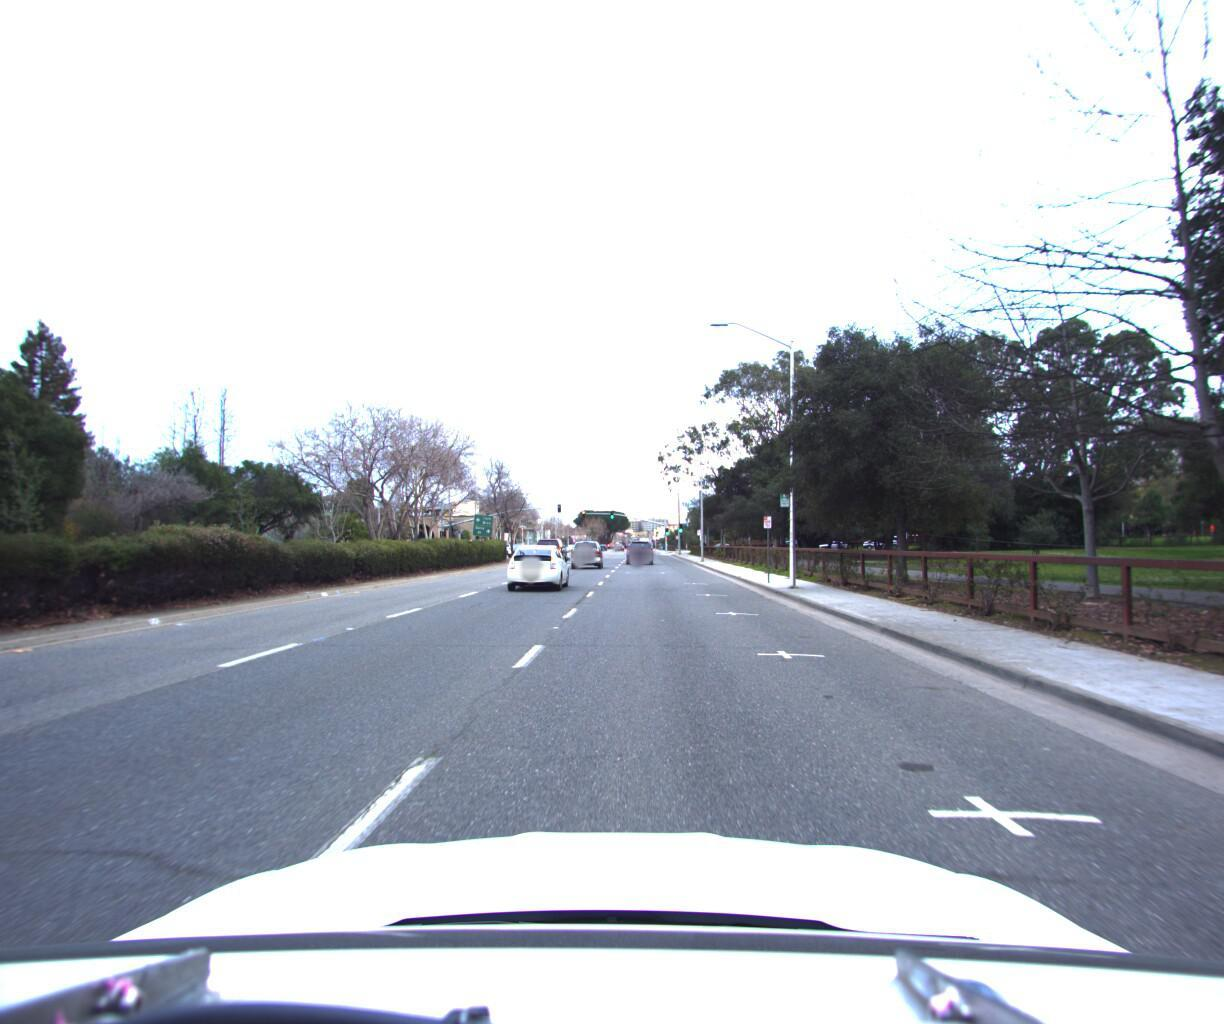car: (502, 538, 573, 589), (569, 534, 604, 564), (538, 532, 571, 559), (624, 536, 653, 561)
